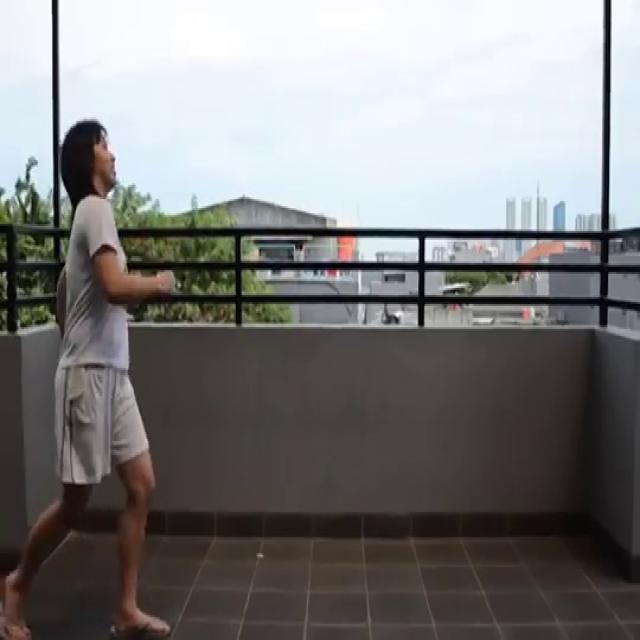normal: (7, 114, 183, 638)
